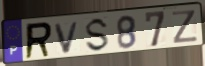7: (144, 10, 167, 49)
8: (116, 15, 138, 51)
R: (23, 21, 54, 62)
S: (84, 16, 111, 54)
V: (53, 20, 81, 55)
Z: (171, 9, 200, 46)
